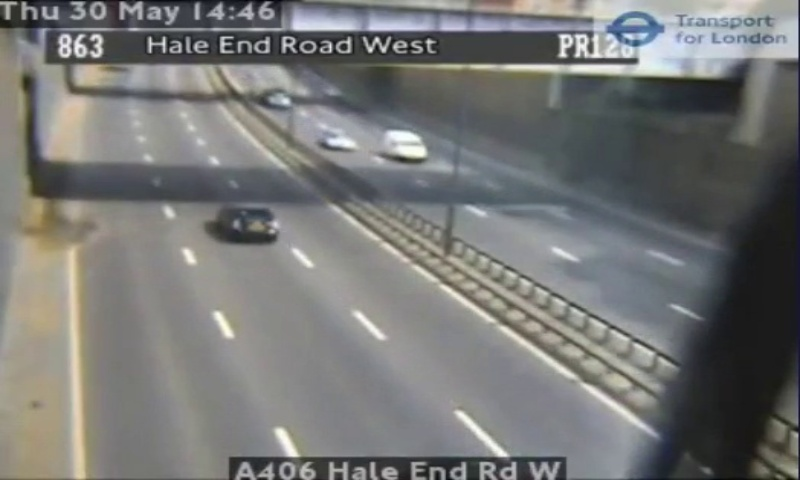car: (219, 208, 280, 241)
